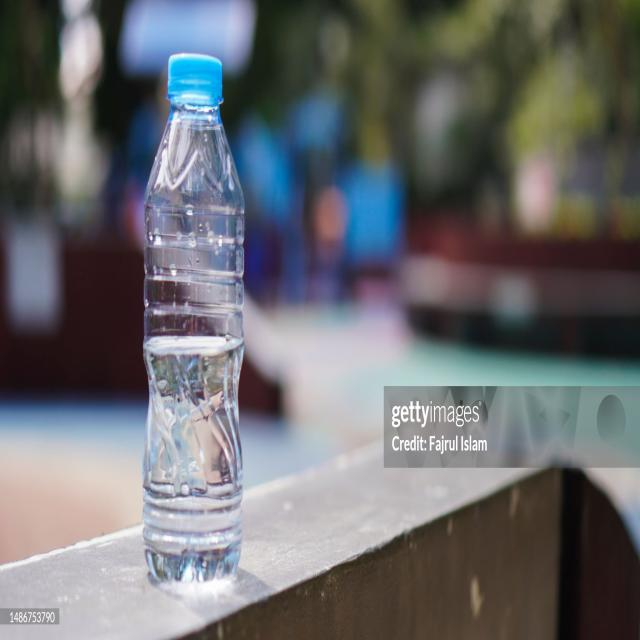bottle: (140, 50, 246, 592)
